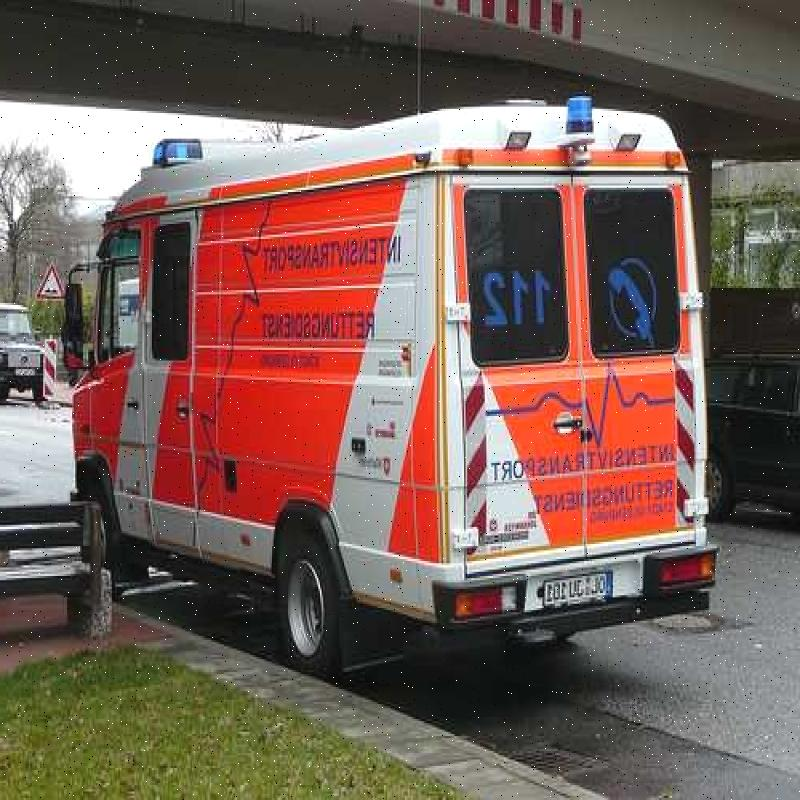AmbulanceSiren: (145, 86, 253, 184)
